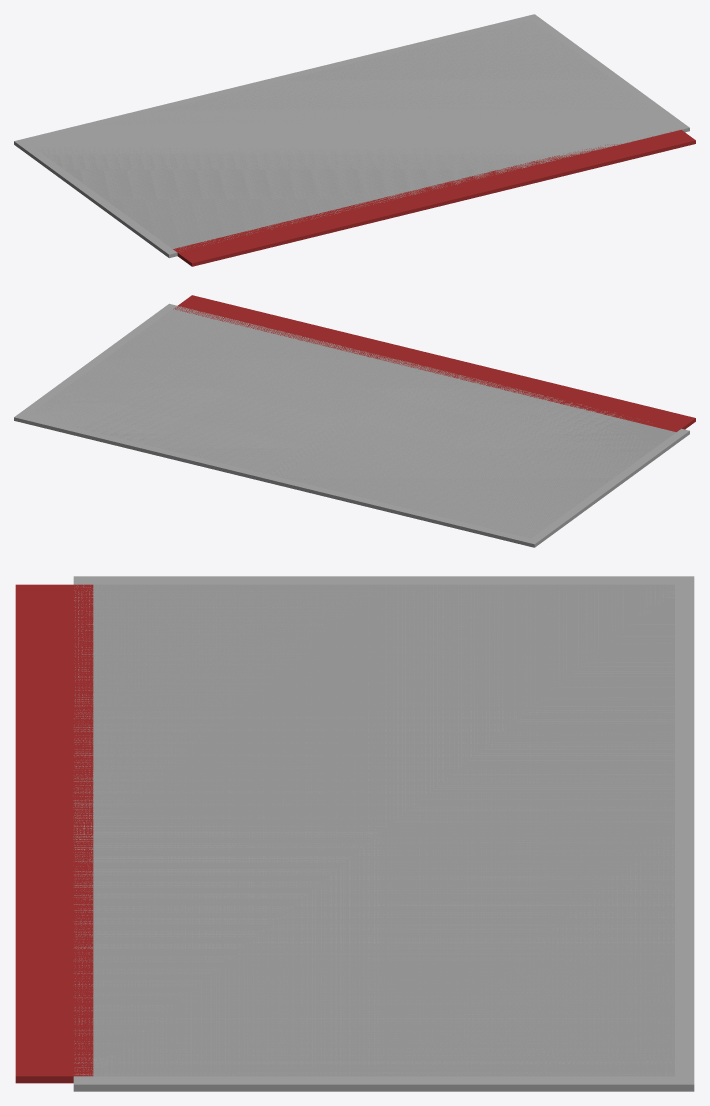
The model's file is Biển chức danh chân gỗ 30 x 15.obj.
3 renders of one model, top to bottom at view 1: azimuth 30°, elevation 25°; view 2: azimuth 150°, elevation 25°; view 3: azimuth 270°, elevation 25°, orthographic. The views are drawn at different scales.
Visible parts, largest first — view 1: vien_trang_tri, be_mat_bien, khung_do; view 2: vien_trang_tri, be_mat_bien, khung_do; view 3: be_mat_bien, vien_trang_tri, khung_do.
Boxes of the visible parts, x1,y1,x2,y2 form: vien_trang_tri: (14, 14, 689, 258); be_mat_bien: (35, 21, 648, 248); khung_do: (173, 129, 695, 266); vien_trang_tri: (14, 303, 689, 547); be_mat_bien: (32, 309, 675, 538); khung_do: (173, 295, 695, 432); be_mat_bien: (93, 584, 674, 1076); vien_trang_tri: (73, 576, 694, 1091); khung_do: (15, 584, 93, 1083).
Bounding box in the file's own units: 0.31 × 0.002 × 0.175.
